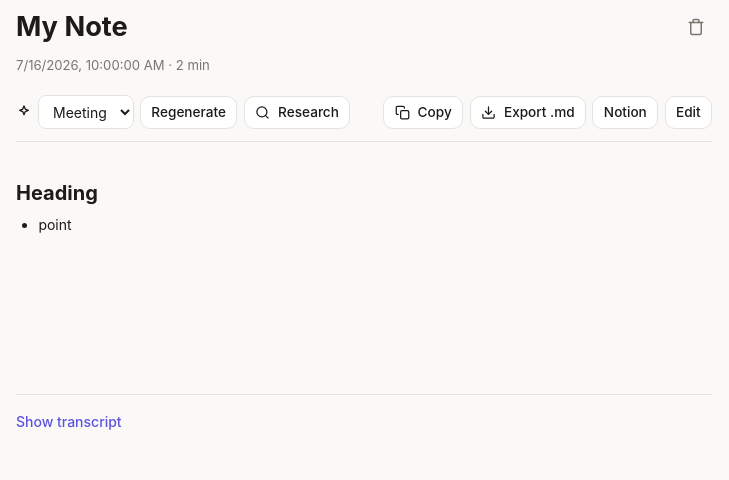
Test: NoteDetail › renders transcript without segments as plain text
What coordinates should you click on to do the following:
click the button "Show transcript"
I would click on:
 (69, 422)
Its box is [16,411,122,432].
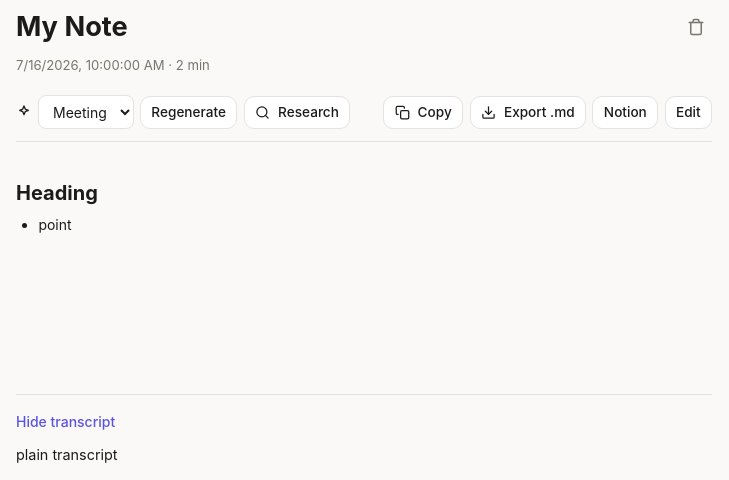
Expected: the text "plain transcript" is shown, [16,446,118,463]
